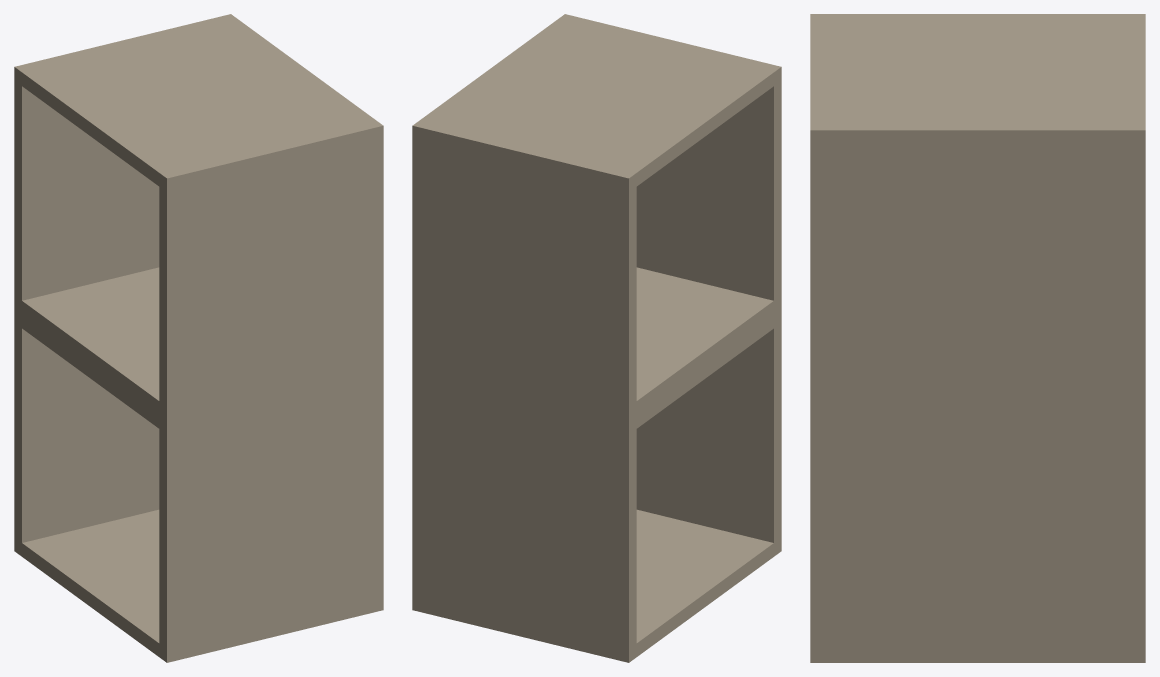
File: Estanteria.fbx
The picture shows the model from 3 angles, left to right: view 1: azimuth 30°, elevation 25°; view 2: azimuth 150°, elevation 25°; view 3: azimuth 270°, elevation 25°; orthographic projection. The views are drawn at different scales.
Visible parts, largest first — view 1: Estanteria; view 2: Estanteria; view 3: Estanteria.
Part boxes in pixels (x1=…): Estanteria: x1=14, y1=14, x2=383, y2=662; Estanteria: x1=412, y1=14, x2=781, y2=662; Estanteria: x1=810, y1=14, x2=1145, y2=662.
Size of the model in its own units: 0.8191 by 1.75 by 1.
